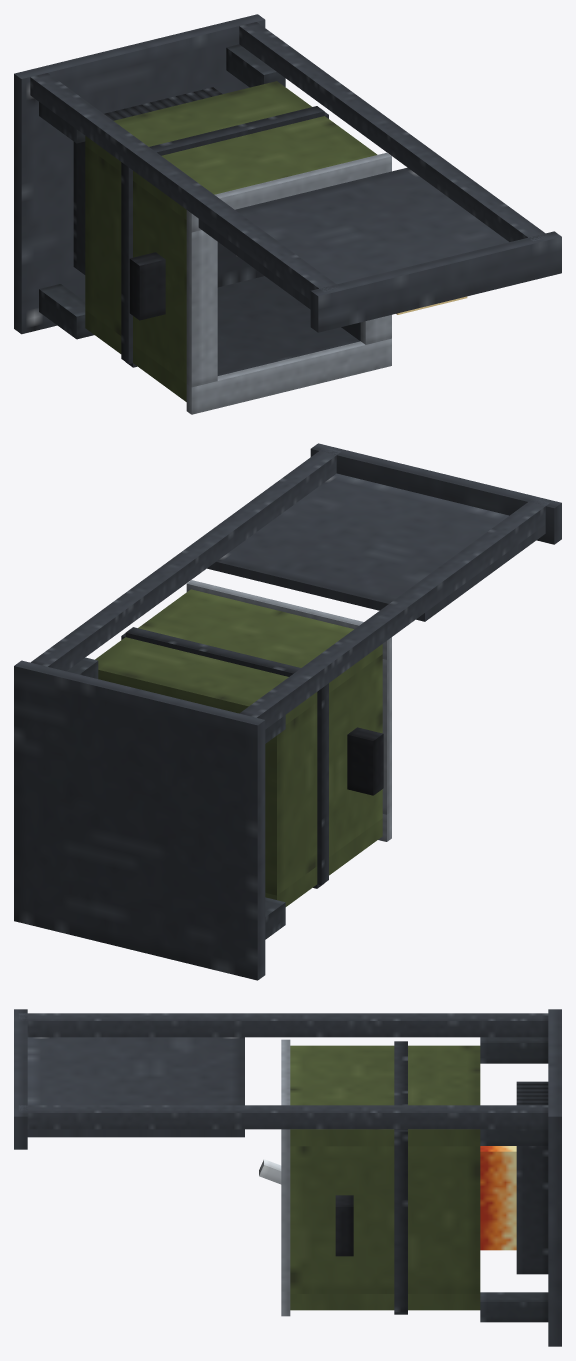
File: cook_pot.obj
The picture shows the model from 3 angles, top to bottom: view 1: azimuth 30°, elevation 25°; view 2: azimuth 150°, elevation 25°; view 3: azimuth 270°, elevation 25°; orthographic projection. The views are drawn at different scales.
Parts seen in each view (by area): view 1: cook_pot_Base_plate, cook_pot_Board_frame, cook_pot_Wall_S, cook_pot_Wall_W, cook_pot_Board_cap, cook_pot_Board_post_0, cook_pot_Board_post_1, cook_pot_Wall_N, cook_pot_Rim_0, cook_pot_Rim_2, cook_pot_Rim_1, cook_pot_Burner (+8 smaller); view 2: cook_pot_Base_plate, cook_pot_Board_frame, cook_pot_Wall_S, cook_pot_Wall_W, cook_pot_Board_post_0, cook_pot_Board_post_1, cook_pot_Board_cap, cook_pot_Band_2, cook_pot_Handle_W, cook_pot_Band_1, cook_pot_Rim_1, cook_pot_Wall_N (+2 smaller); view 3: cook_pot_Wall_E, cook_pot_Board_frame, cook_pot_Wall_S, cook_pot_Board_post_1, cook_pot_Board_post_0, cook_pot_Burner, cook_pot_Base_plate, cook_pot_Flames, cook_pot_Wall_N, cook_pot_Band_3, cook_pot_Leg_1, cook_pot_Board_cap (+7 smaller).
Boxes of the visible parts, box(x1,y1,x2,y2) form: cook_pot_Base_plate: box(14, 14, 265, 334); cook_pot_Board_frame: box(198, 167, 509, 309); cook_pot_Wall_S: box(85, 81, 377, 219); cook_pot_Wall_W: box(85, 146, 186, 383); cook_pot_Board_cap: box(310, 231, 561, 332); cook_pot_Board_post_0: box(30, 73, 338, 300); cook_pot_Board_post_1: box(239, 22, 549, 241); cook_pot_Wall_N: box(85, 276, 359, 401); cook_pot_Rim_0: box(186, 338, 391, 414); cook_pot_Rim_2: box(186, 229, 217, 387); cook_pot_Rim_1: box(186, 152, 391, 232); cook_pot_Burner: box(73, 87, 222, 274); cook_pot_Base_plate: box(14, 660, 265, 980); cook_pot_Board_frame: box(207, 473, 545, 621); cook_pot_Wall_S: box(95, 589, 382, 724); cook_pot_Wall_W: box(265, 654, 382, 895); cook_pot_Board_post_0: box(239, 499, 550, 729); cook_pot_Board_post_1: box(30, 447, 340, 671); cook_pot_Board_cap: box(310, 443, 561, 544); cook_pot_Band_2: box(317, 683, 328, 885); cook_pot_Handle_W: box(347, 727, 383, 795); cook_pot_Band_1: box(125, 627, 300, 676); cook_pot_Rim_1: box(186, 580, 391, 659); cook_pot_Wall_N: box(265, 818, 382, 906); cook_pot_Wall_E: box(290, 1146, 480, 1293); cook_pot_Board_frame: box(27, 1037, 244, 1137); cook_pot_Wall_S: box(290, 1045, 480, 1146); cook_pot_Board_post_1: box(18, 1105, 548, 1129); cook_pot_Board_post_0: box(18, 1013, 548, 1037); cook_pot_Burner: box(516, 1081, 548, 1274); cook_pot_Base_plate: box(548, 1009, 561, 1346); cook_pot_Flames: box(480, 1146, 516, 1250); cook_pot_Wall_N: box(290, 1294, 480, 1310); cook_pot_Band_3: box(394, 1129, 407, 1312); cook_pot_Leg_1: box(480, 1292, 548, 1322); cook_pot_Board_cap: box(14, 1009, 27, 1149).
Size of the model in its own units: 0.875 by 0.875 by 1.89.
